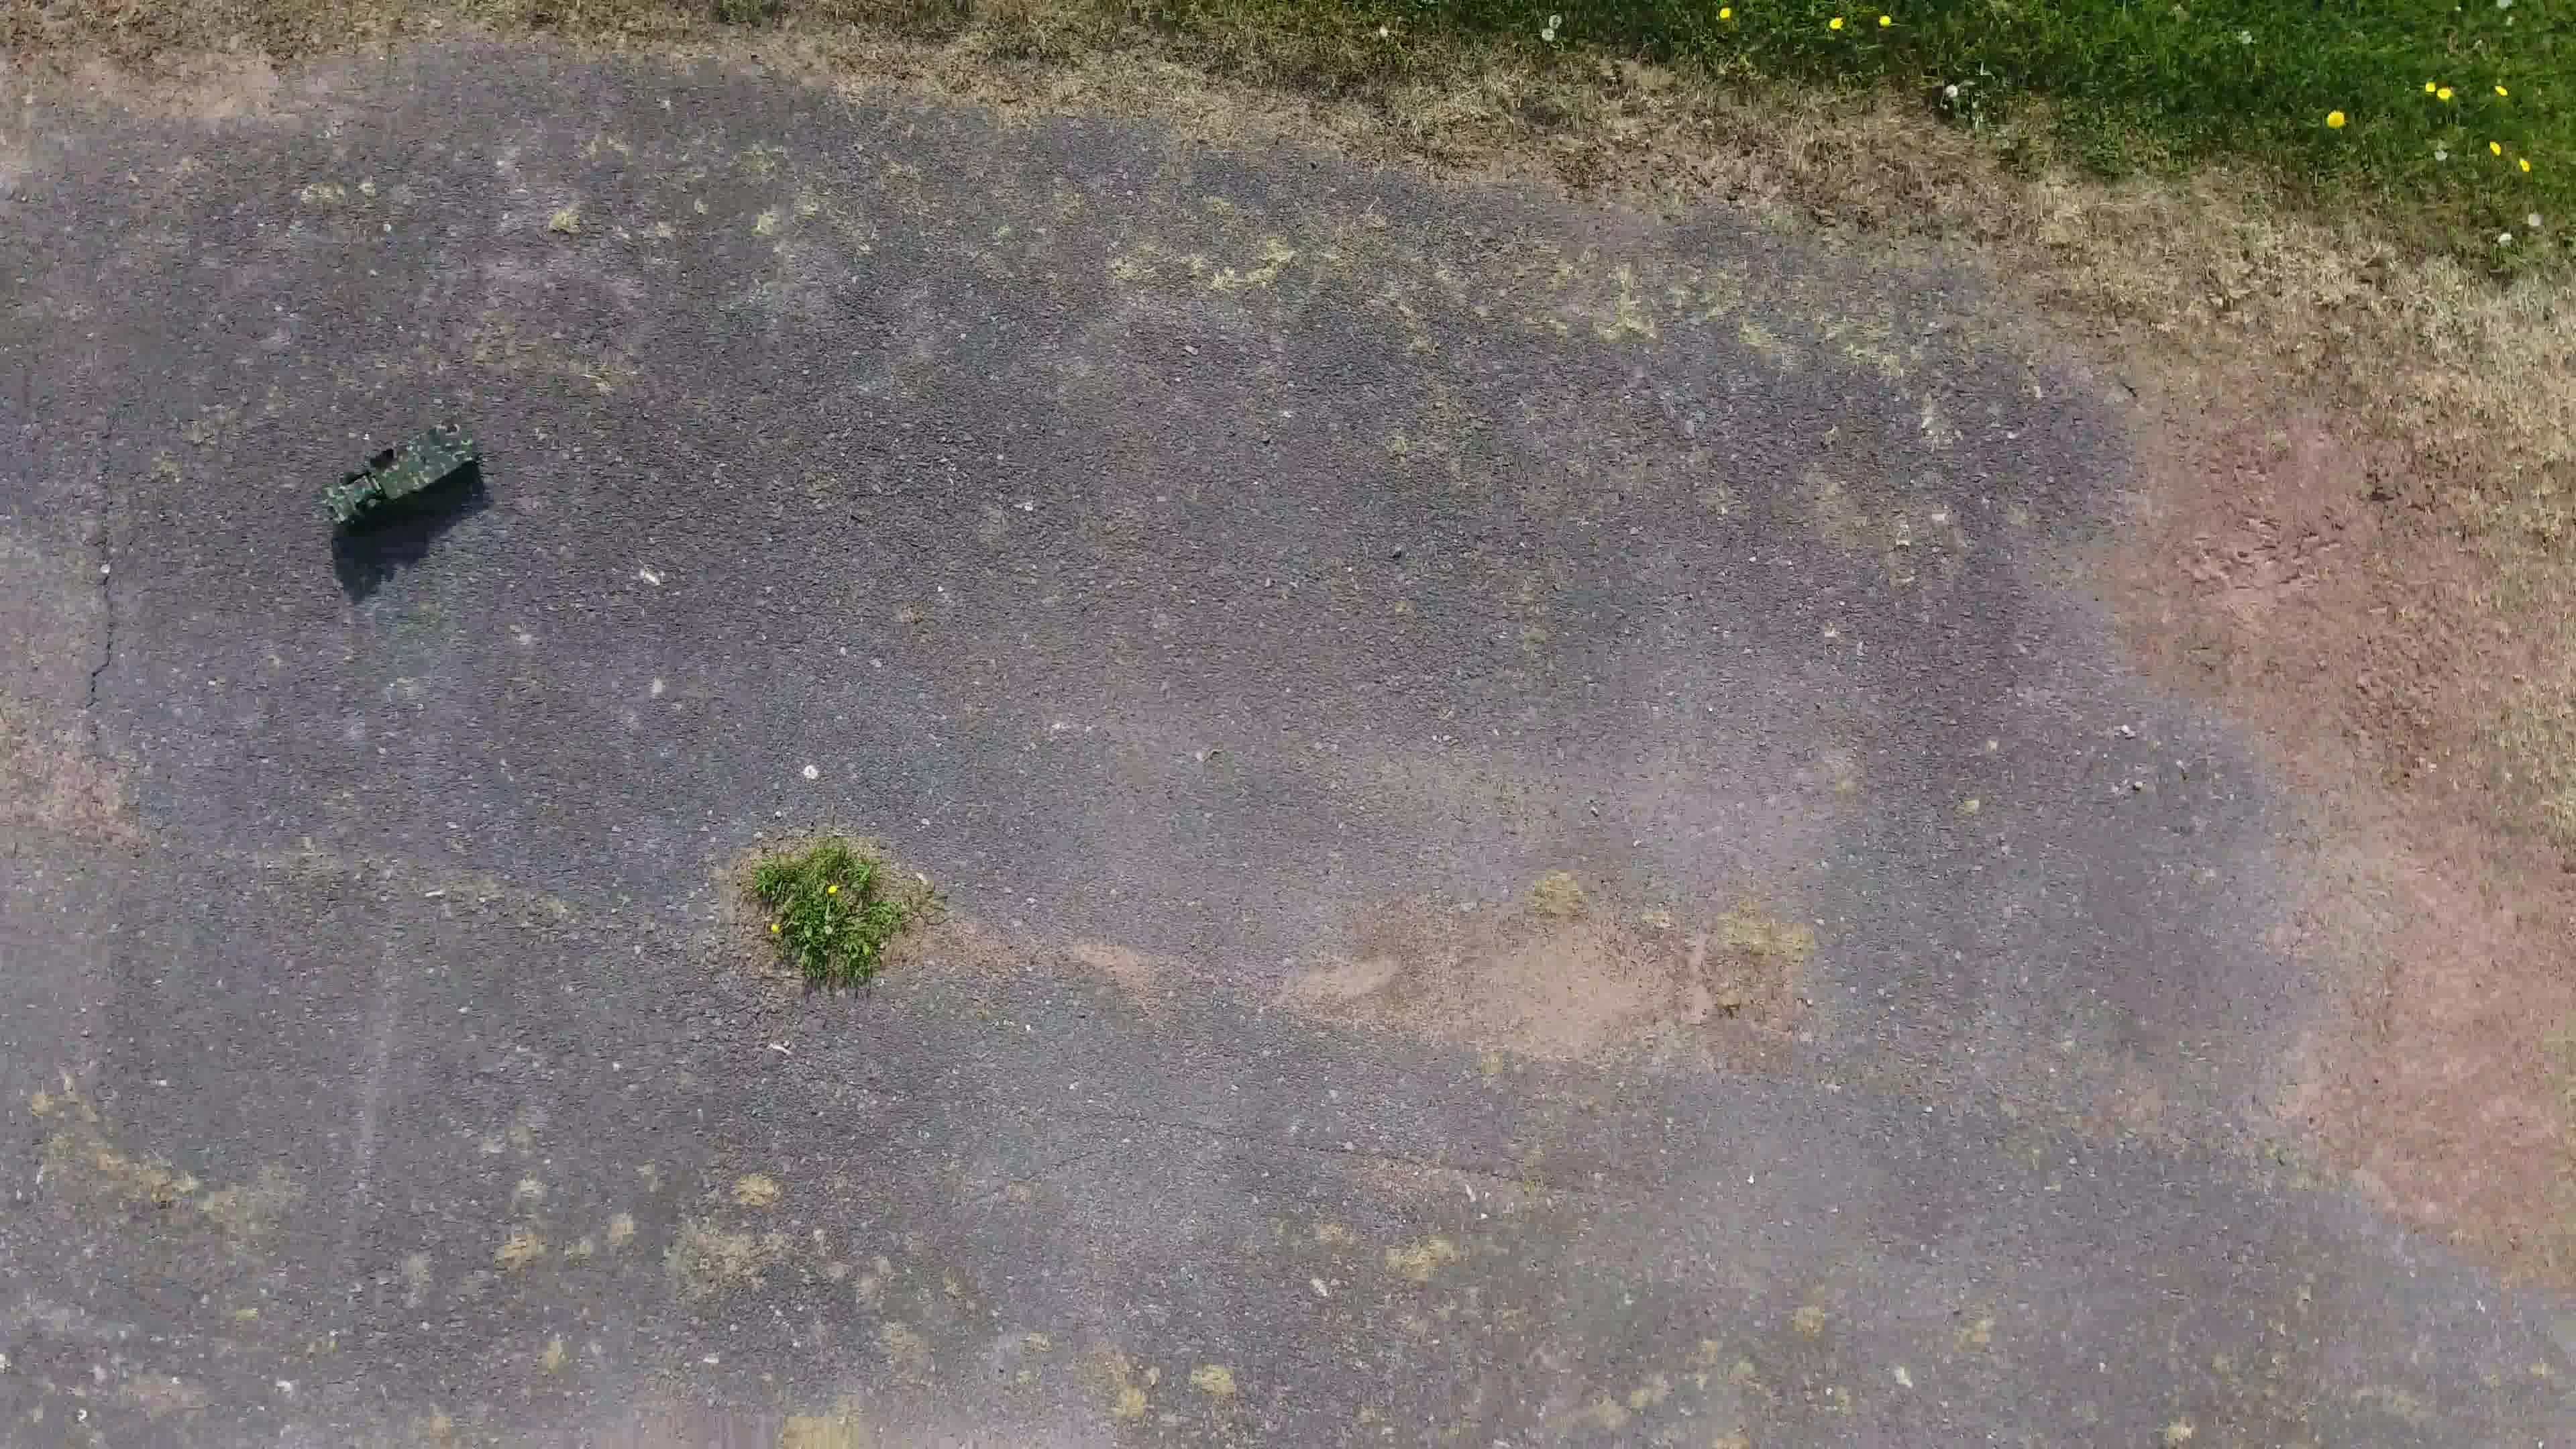transporter9_camo: (318, 412, 485, 540)
